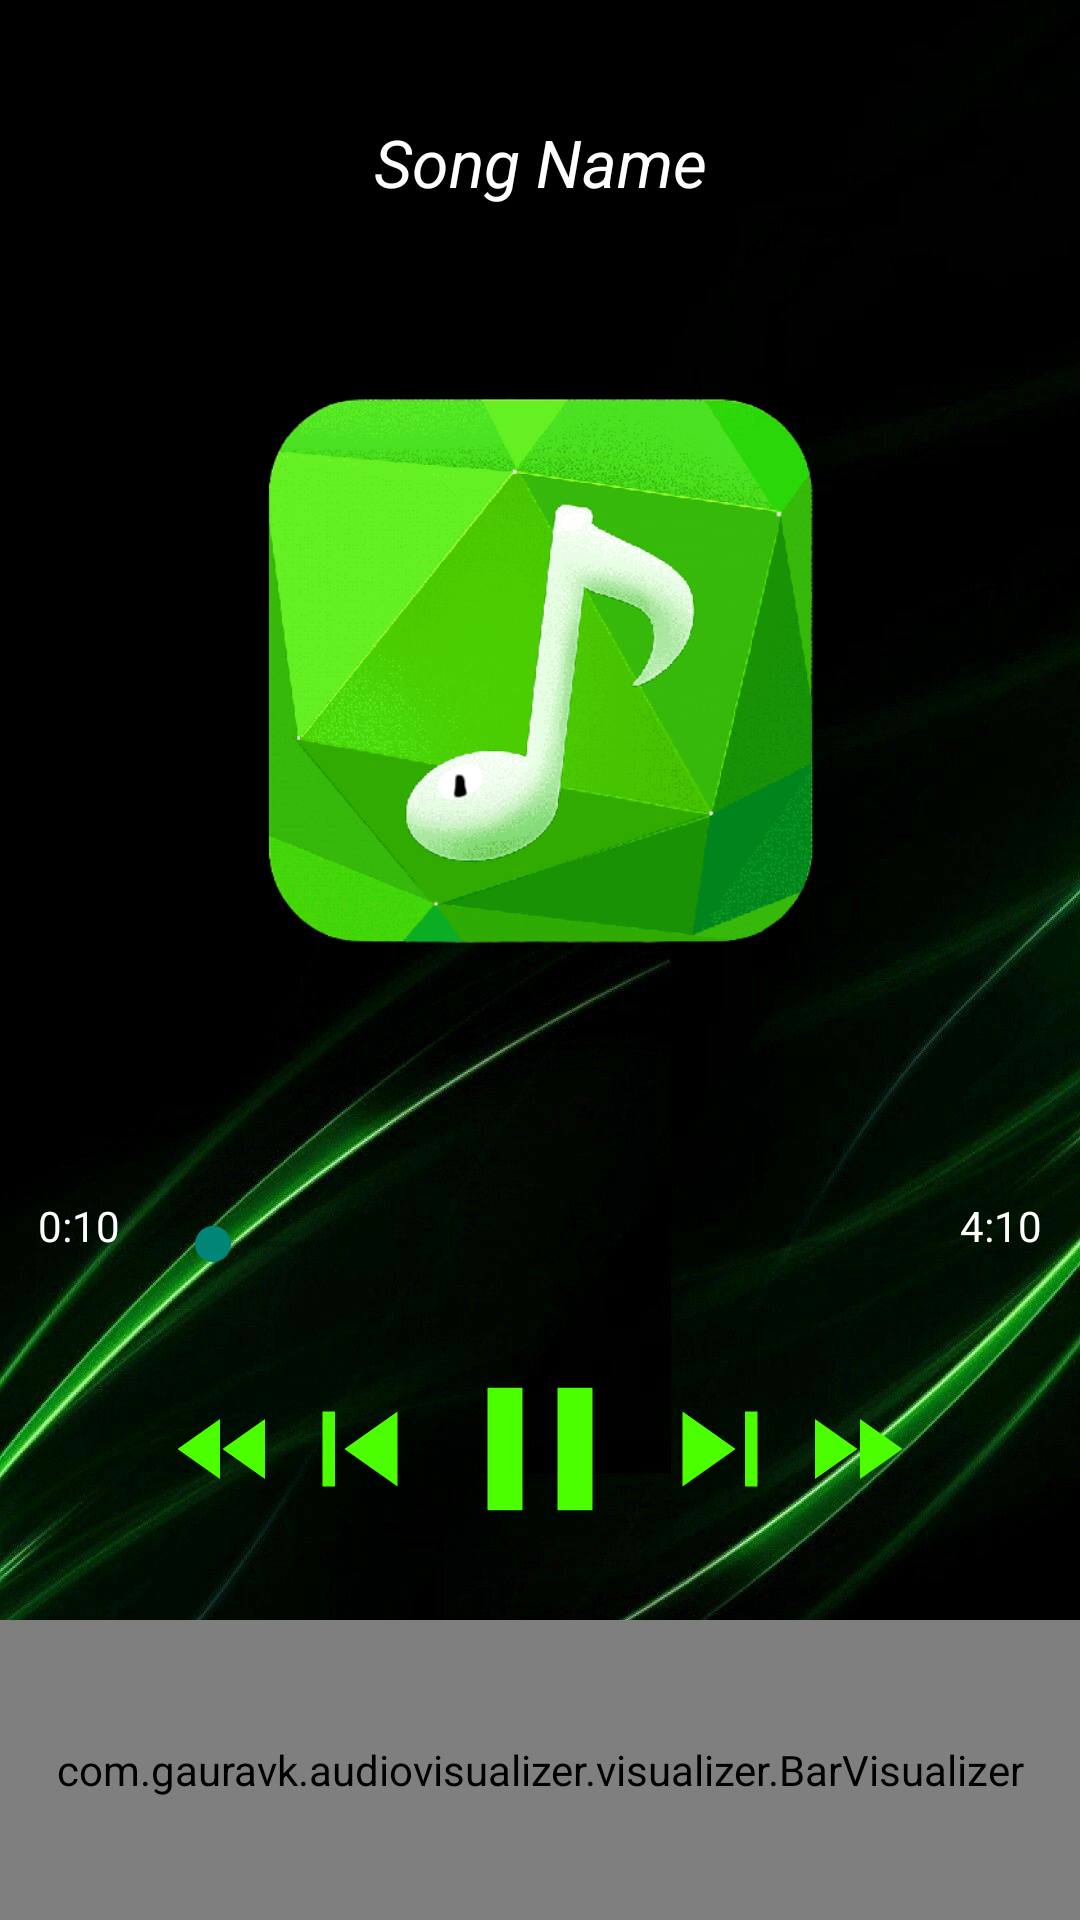

Screen size 1080px×1920px. Icon name, then its center in pixels as point (x, y):
fast forward: point (855, 1449)
fast rewind: point (225, 1464)
pause: point (540, 1449)
skip next: point (738, 1449)
skip previous: point (346, 1449)
